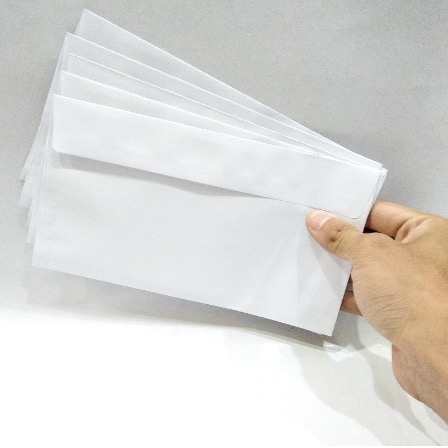paper: (17, 9, 389, 341)
